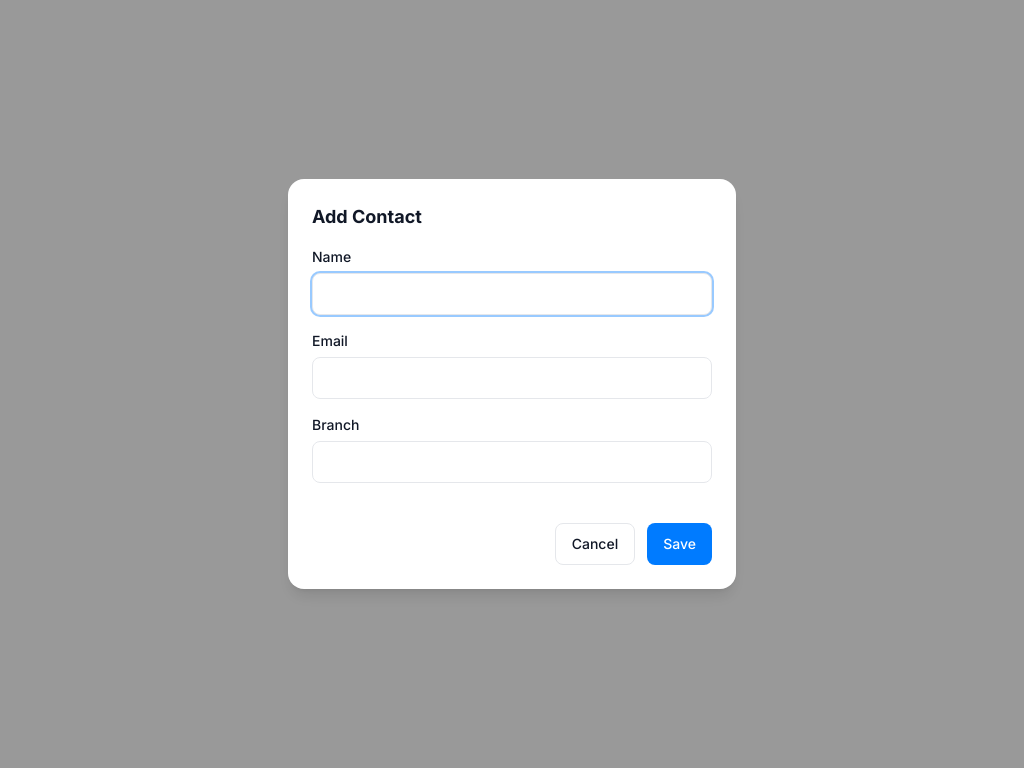
ContactFormModal › surfaces a server-side conflict error on the email field without losing entered values
Type "Ada Lovelace" into the field labelled "Name" at {"x": 512, "y": 294}, box [312, 273, 712, 315]
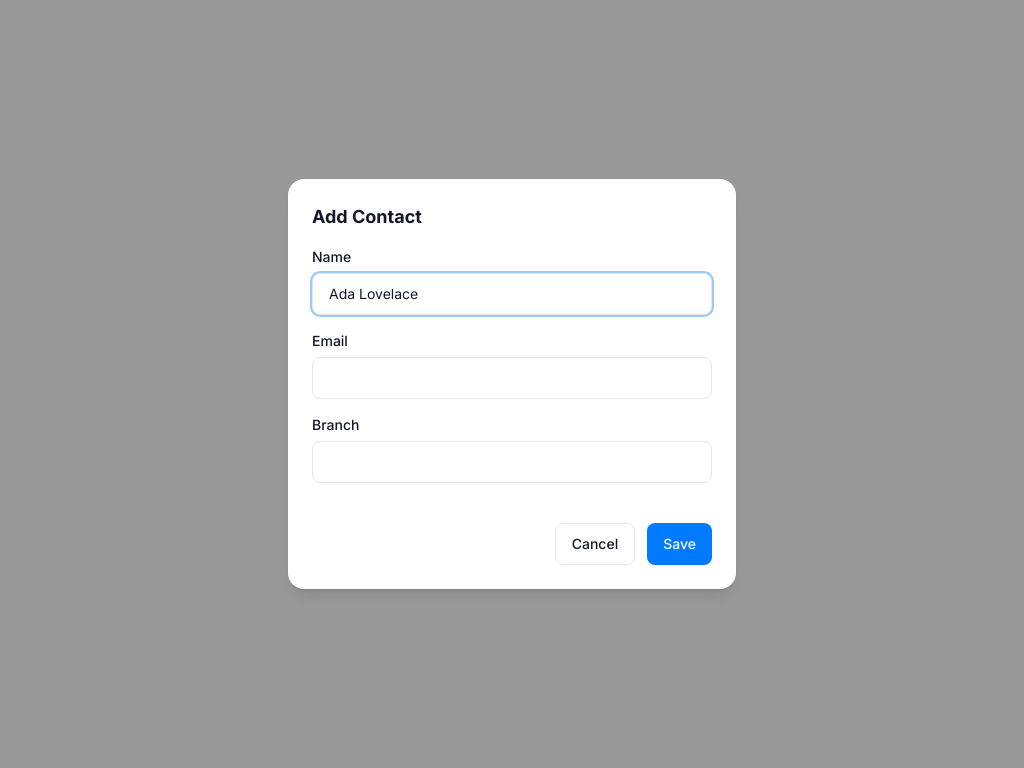
Type "ada@example.com" into the field labelled "Email" at {"x": 512, "y": 378}, box [312, 357, 712, 399]
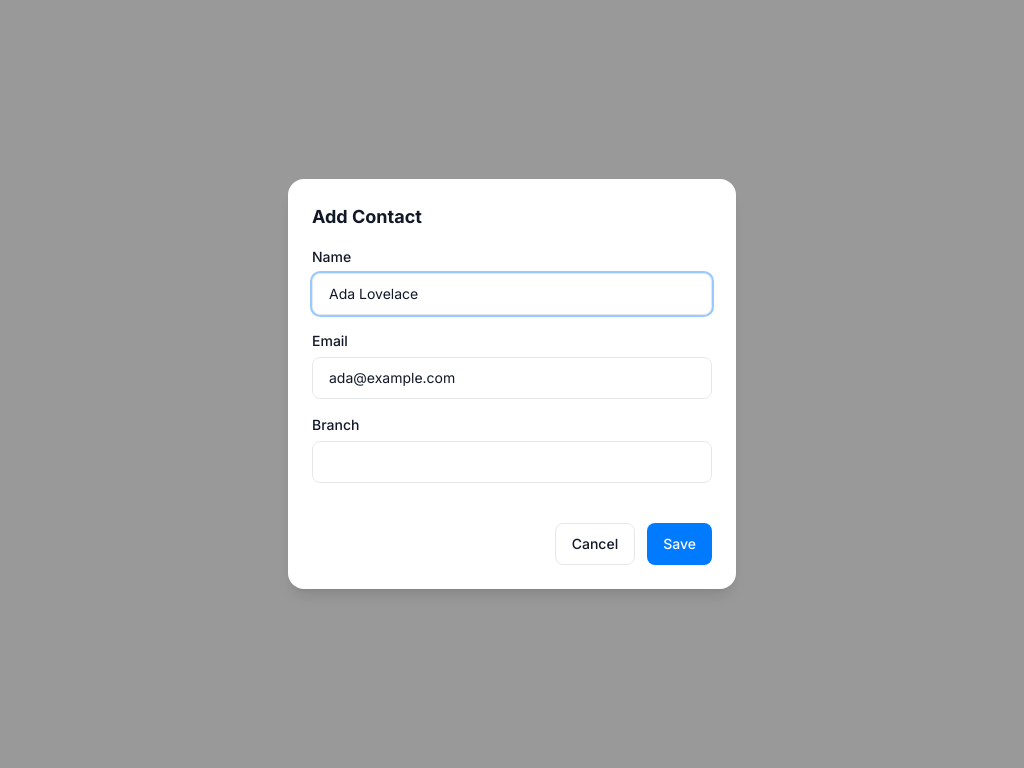
Type "London" into the field labelled "Branch" at {"x": 512, "y": 462}, box [312, 441, 712, 483]
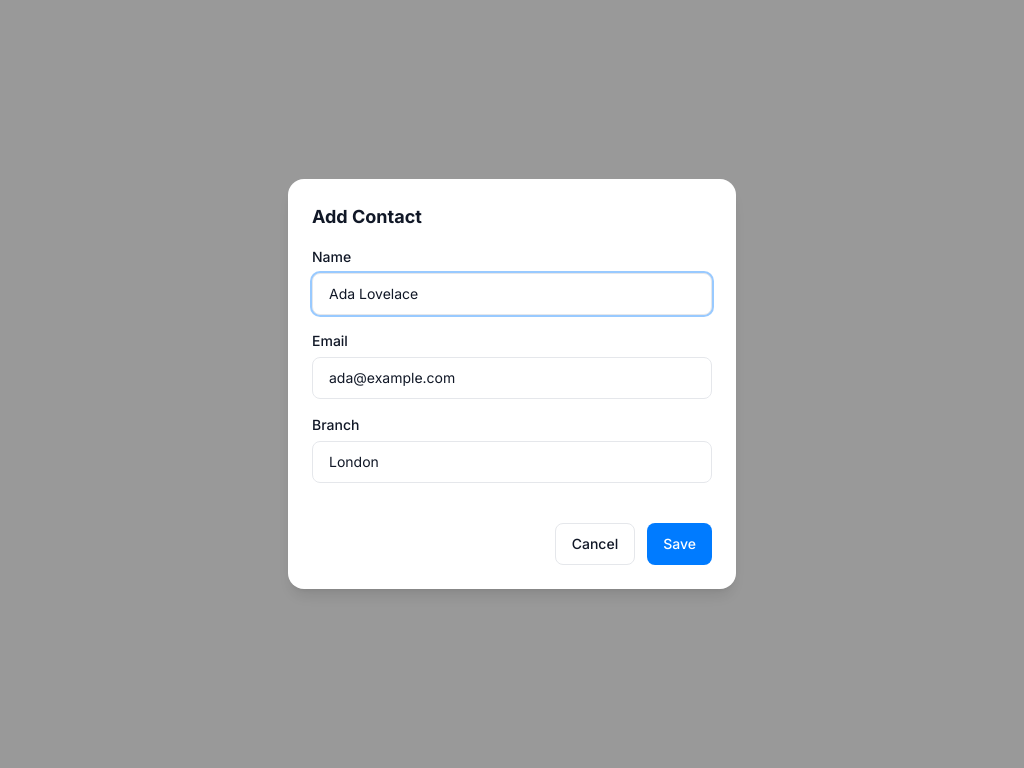
Click the button "Save" at {"x": 680, "y": 544}, box [647, 523, 712, 565]
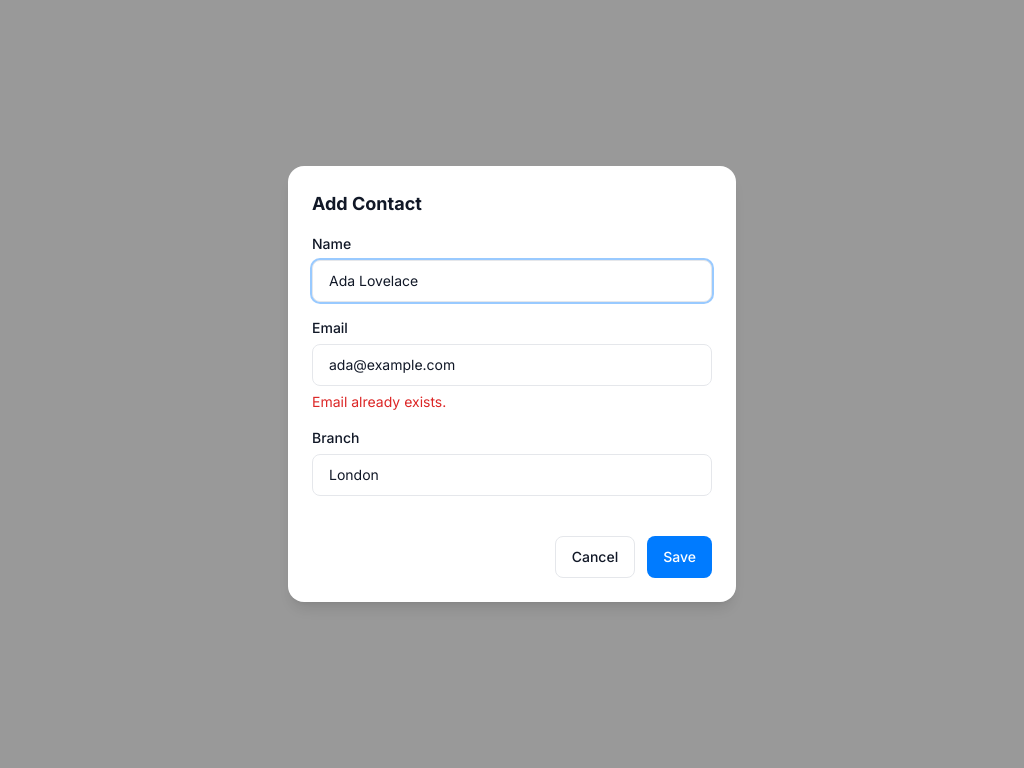
Expected: the text "Email already exists." is shown, [312, 393, 446, 410]
